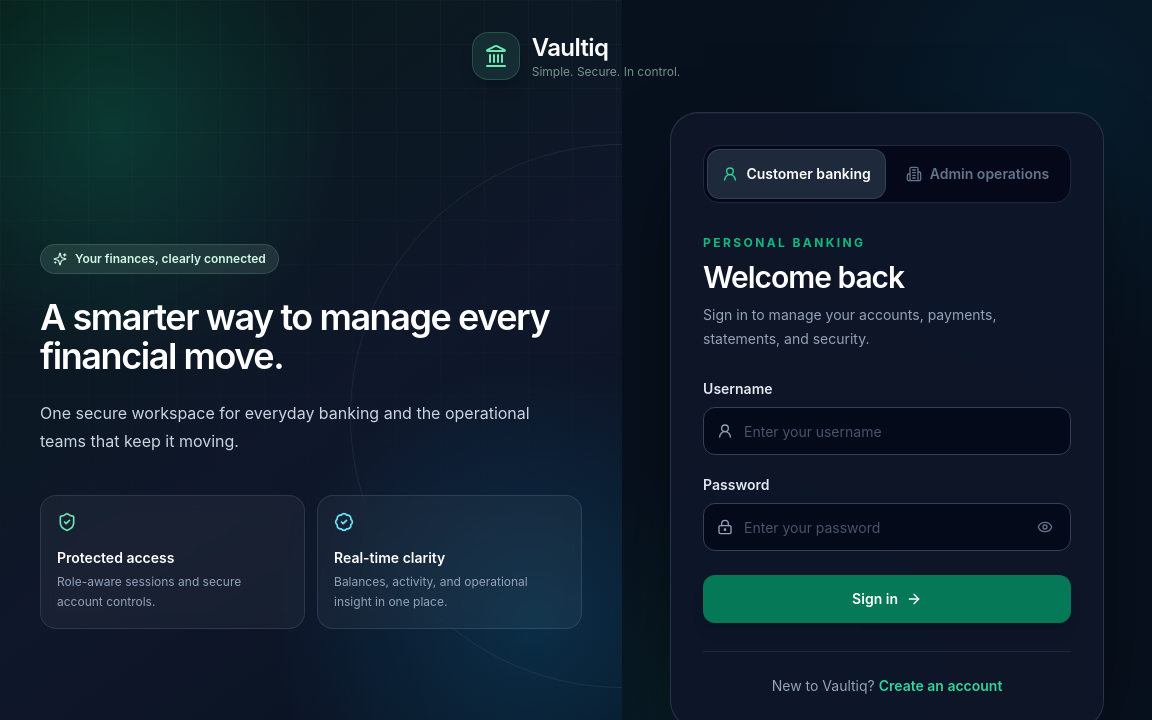
Scenario: auth screens › offers distinct customer and admin sign in portals
expect the heading "Welcome back" is shown: met, box [703,259,904,295]
expect the link "Create an account" is shown: met, box [879,677,1002,694]
Step 1. Click the button "Admin operations" → (978, 174), box [889,150,1066,198]
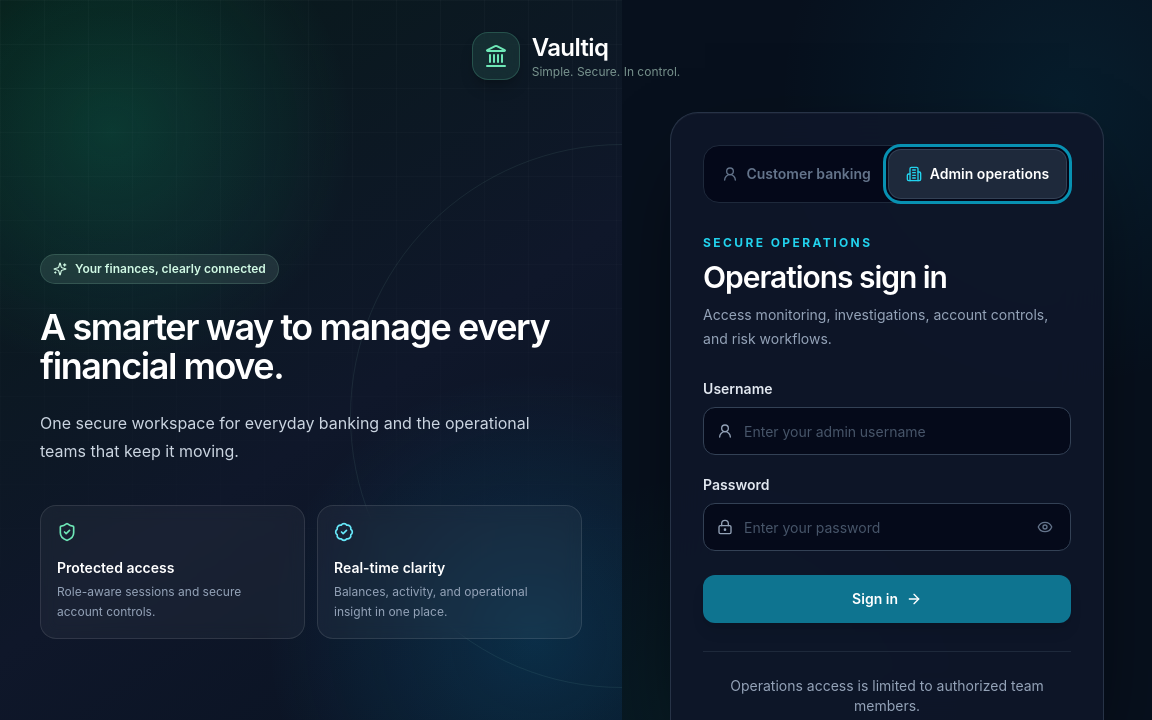
expect the heading "Operations sign in" is shown: met, box [703,259,947,295]
expect the link "Create an account" is gone: met
